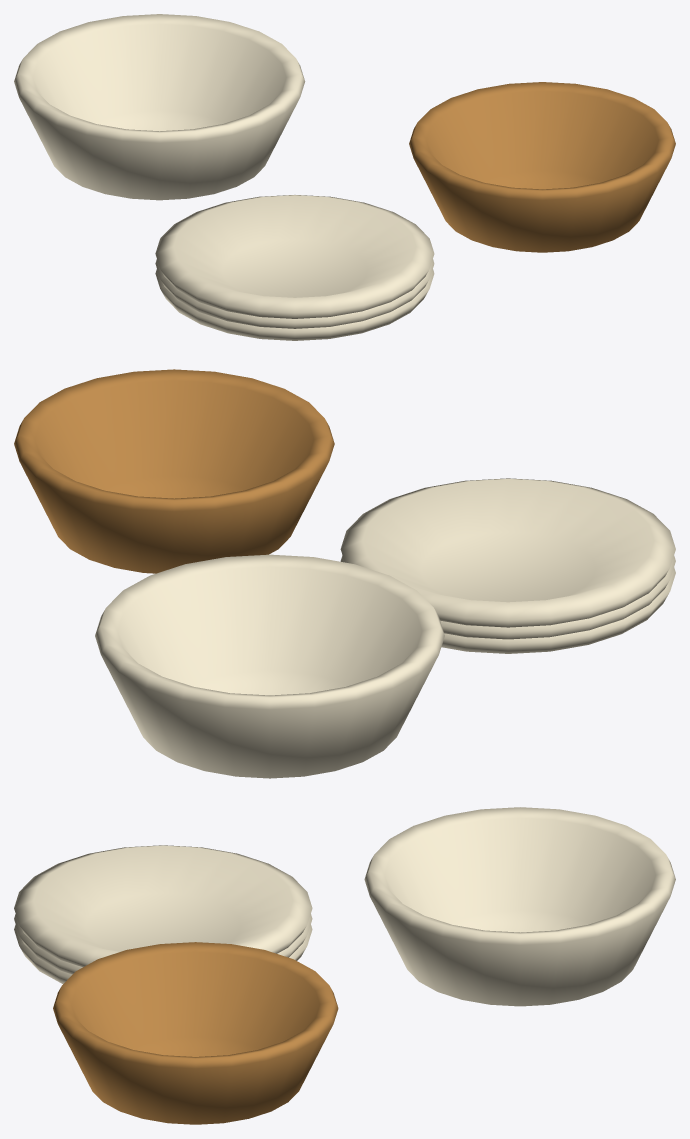
Rendered from 22_bowls_and_plates.glb.
3 views of the same model, one above another, from view 1: azimuth 30°, elevation 25°; view 2: azimuth 150°, elevation 25°; view 3: azimuth 270°, elevation 25° (orthographic). The views are drawn at different scales.
Visible parts, largest first — view 1: Bowl.006, Bowl.005, Plate.002, Plate, Plate.001; view 2: Bowl.006, Bowl.005, Plate.002, Plate, Plate.001; view 3: Bowl.006, Bowl.005, Plate.002, Plate.001, Plate.
Boxes of the visible parts, <box> form: Bowl.006: <box>14,14,305,200</box>; Bowl.005: <box>409,82,675,252</box>; Plate.002: <box>155,195,434,318</box>; Plate: <box>155,269,434,340</box>; Plate.001: <box>155,259,434,328</box>; Bowl.006: <box>95,554,444,778</box>; Bowl.005: <box>14,369,334,573</box>; Plate.002: <box>340,478,675,627</box>; Plate: <box>441,567,675,653</box>; Plate.001: <box>340,555,675,639</box>; Bowl.006: <box>364,807,675,1006</box>; Bowl.005: <box>53,942,338,1124</box>; Plate.002: <box>14,845,312,966</box>; Plate.001: <box>14,914,312,974</box>; Plate: <box>14,924,312,983</box>.
Size of the model in its own units: 1.62 by 0.3101 by 1.73.
